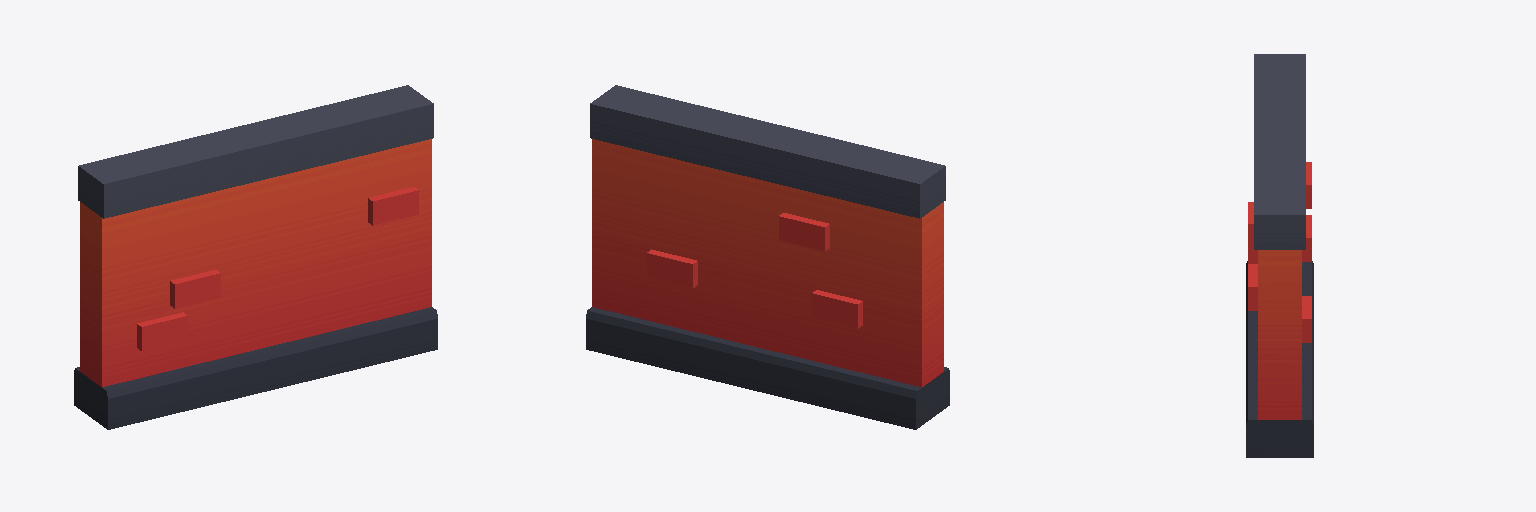
The picture shows the model from 3 angles: view 1: azimuth 30°, elevation 25°; view 2: azimuth 150°, elevation 25°; view 3: azimuth 270°, elevation 25°; orthographic projection.
Parts seen in each view (by area): view 1: brick-wall.012; view 2: brick-wall.012; view 3: brick-wall.012.
Part boxes in pixels (x1,y1,x2,y2): brick-wall.012: (74, 85, 437, 429); brick-wall.012: (586, 85, 949, 429); brick-wall.012: (1246, 54, 1313, 457).
Bounding box in the file's own units: 2.45 × 1.72 × 0.441.
1 materials, 1 textured.